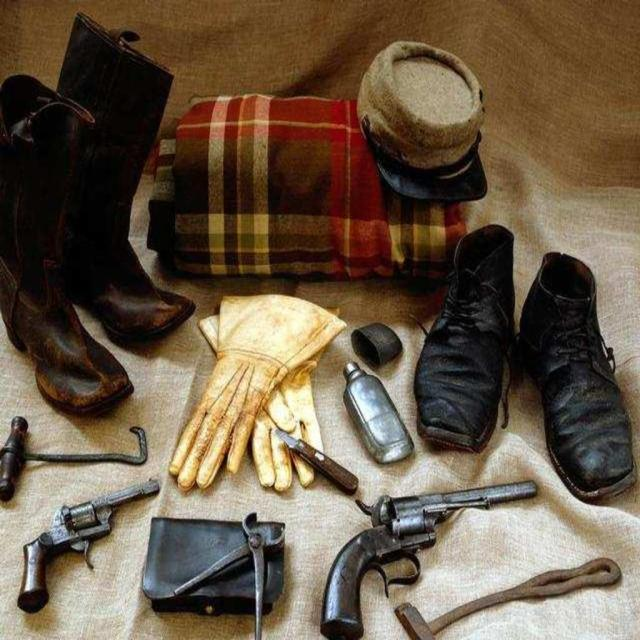Gun: (321, 481, 536, 640), (18, 480, 160, 612)
Knife: (278, 429, 359, 494)
